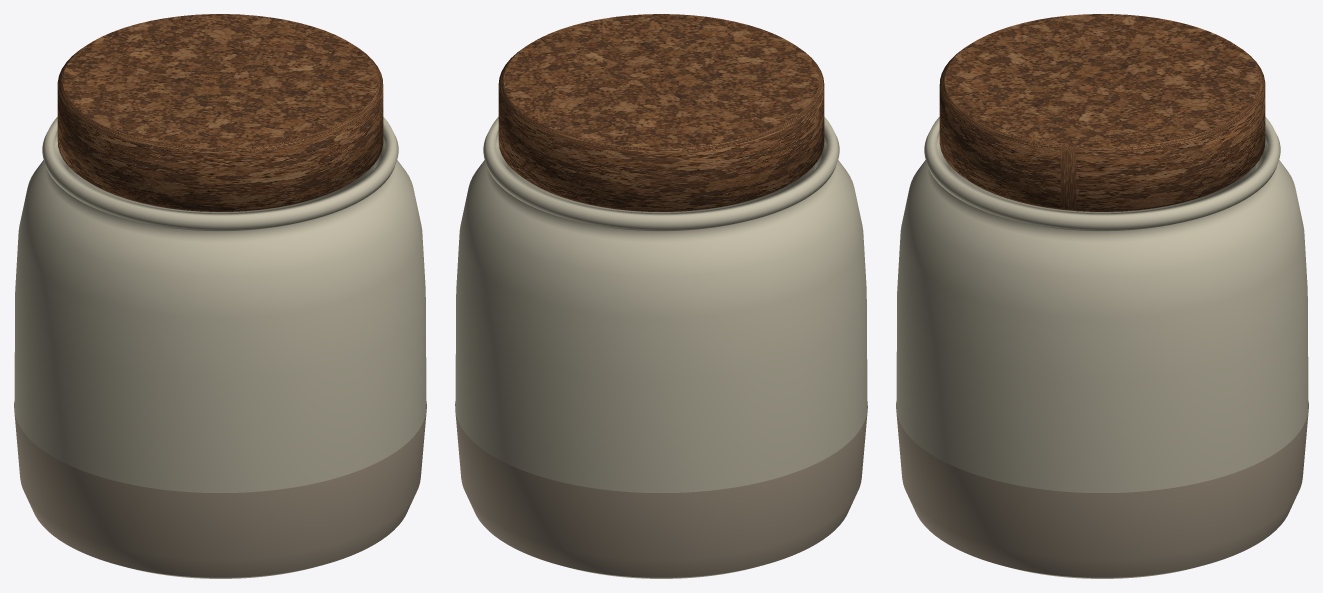
The picture shows the model from 3 angles, left to right: view 1: azimuth 30°, elevation 25°; view 2: azimuth 150°, elevation 25°; view 3: azimuth 270°, elevation 25°; orthographic projection.
Visible parts, largest first — view 1: body, lid; view 2: body, lid; view 3: body, lid.
Boxes of the visible parts, x1,y1,x2,y2 form: body: (14, 117, 426, 578); lid: (57, 14, 383, 211); body: (455, 117, 867, 578); lid: (498, 14, 824, 211); body: (896, 117, 1308, 578); lid: (939, 14, 1265, 211).
Bounding box in the file's own units: 0.0939 × 0.1065 × 0.0939.
3 materials, 1 textured.
